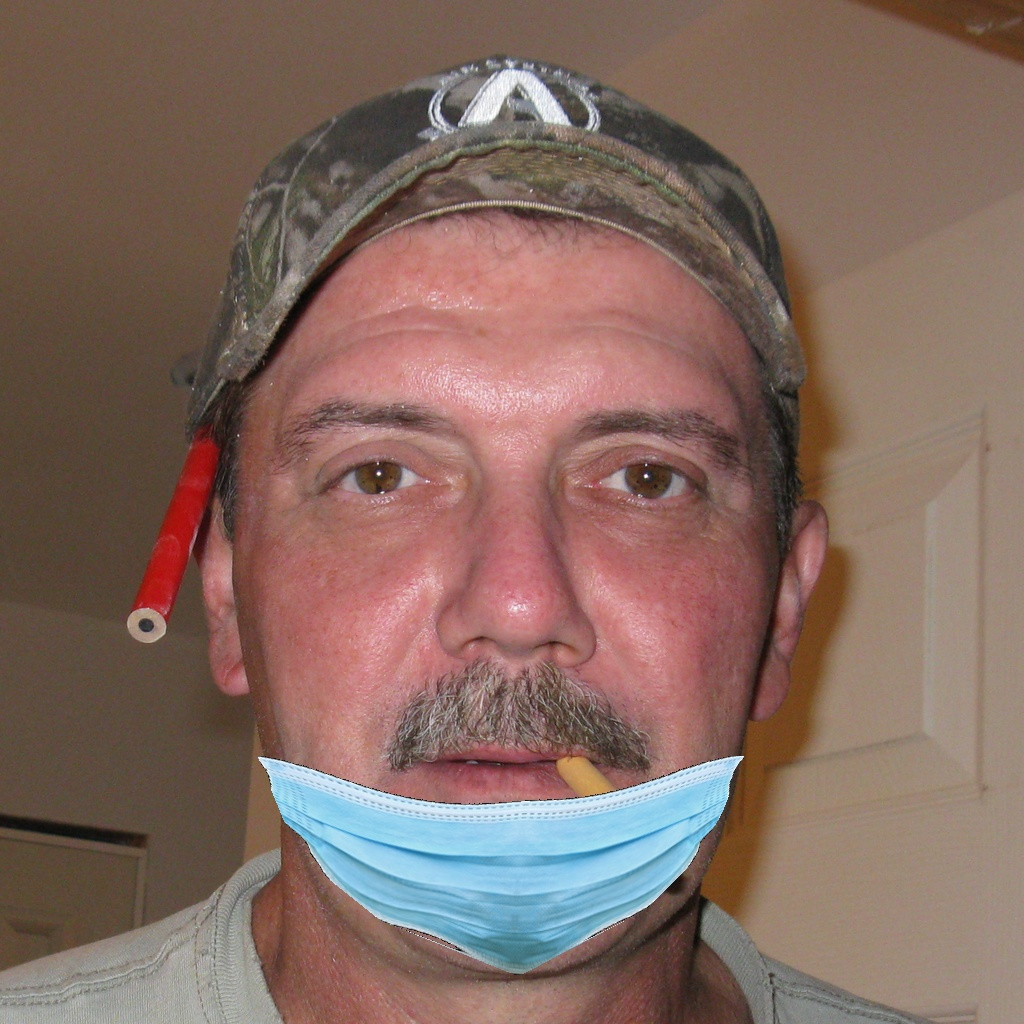mask_weared_incorrect: (226, 365, 781, 985)
